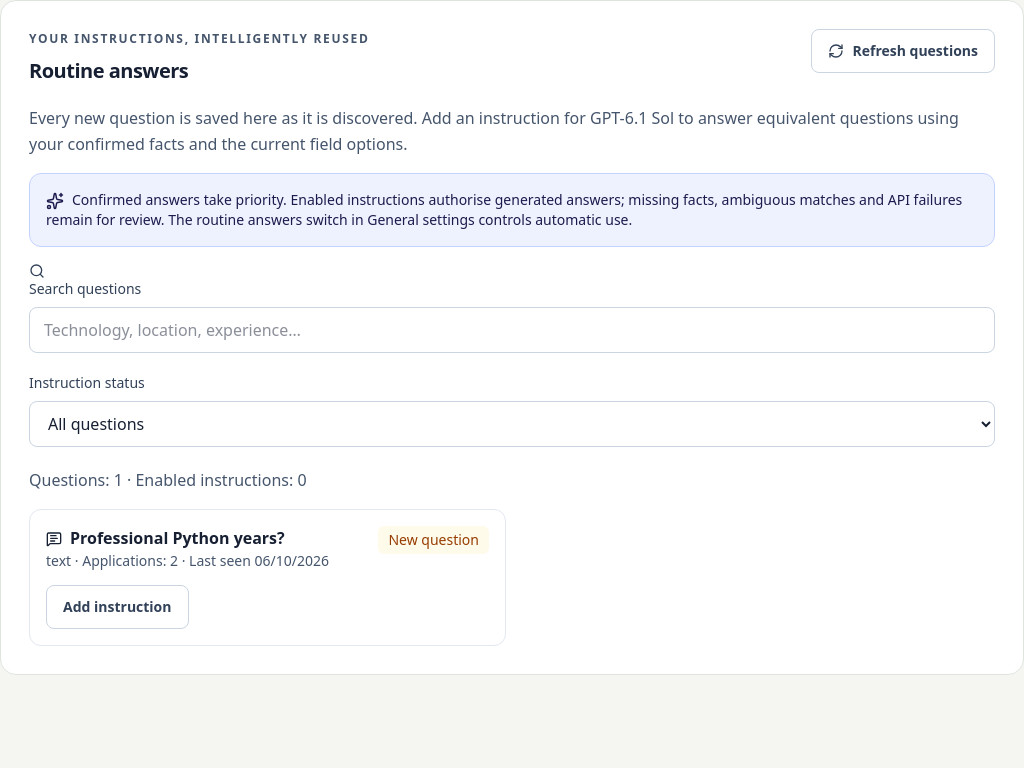
Test: offers field-aware generation for text without sending raw HTML from the browser
The width and height of the screenshot is (1024, 768).
Click the button "Add instruction" at (117, 606), box [46,584,188,628]
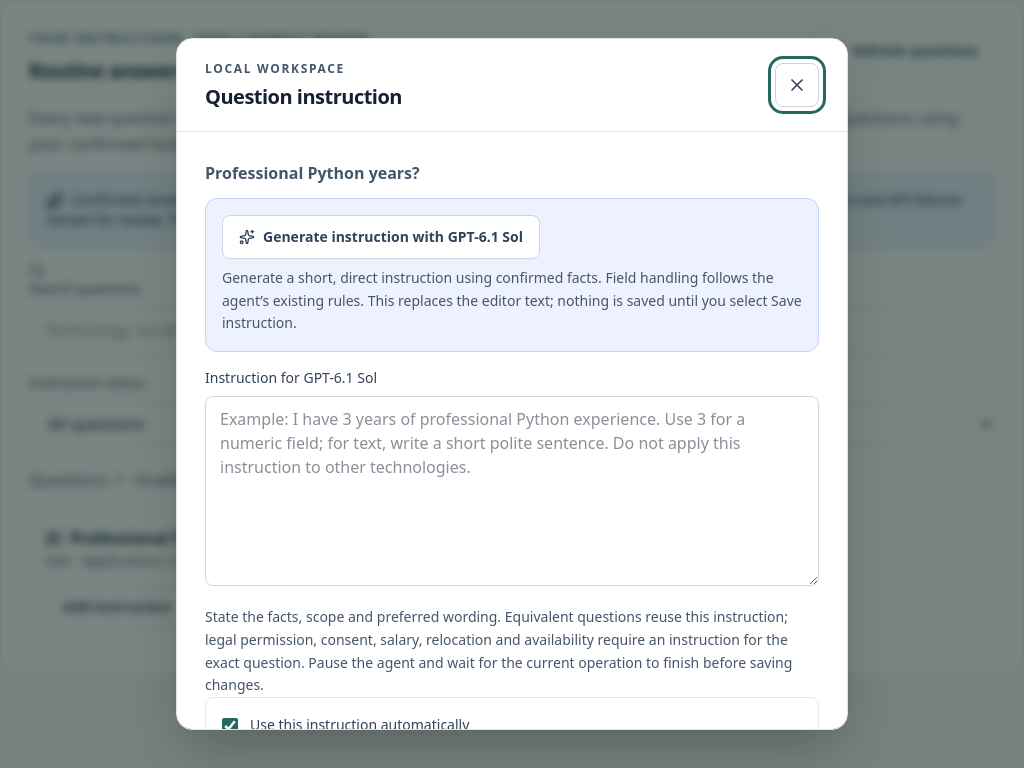
Click the button "Generate instruction with GPT-6.1 Sol" at (381, 237), box [222,215,540,259]
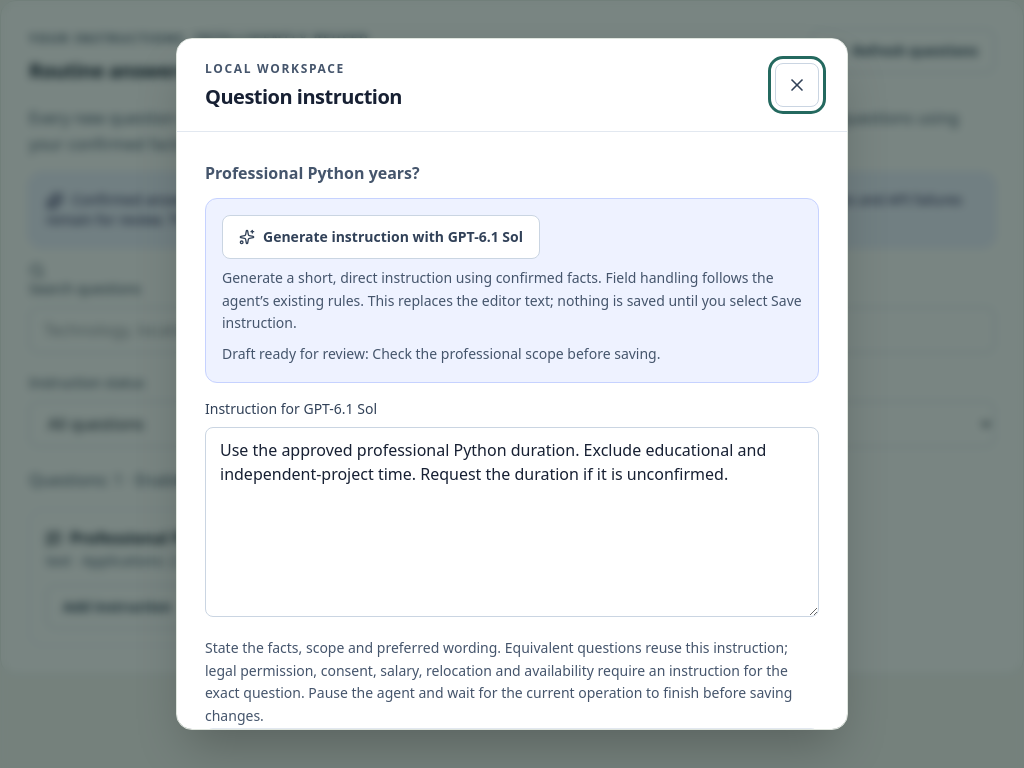
Expected: the text box labelled "Instruction for GPT-6.1 Sol" holds "Use the approved professional Python duration. Exclude educational and independent-project time. Request the duration if it is unconfirmed.", [205,427,819,617]
